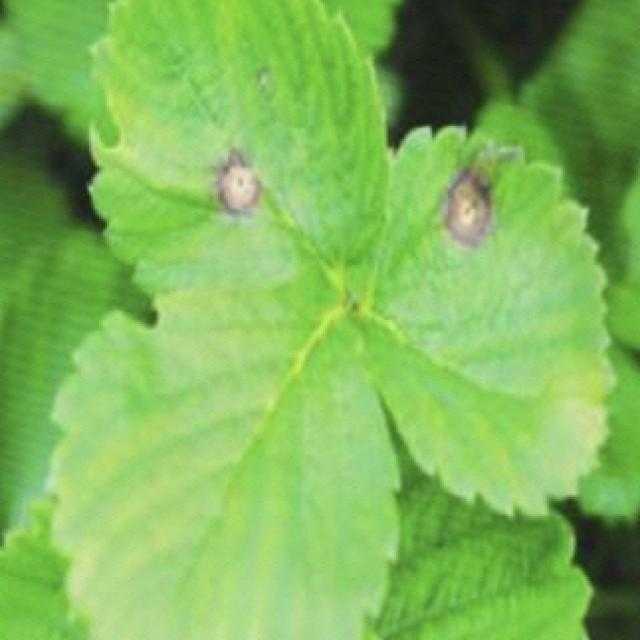Leaf Spot: (362, 121, 621, 521), (85, 0, 392, 305)
